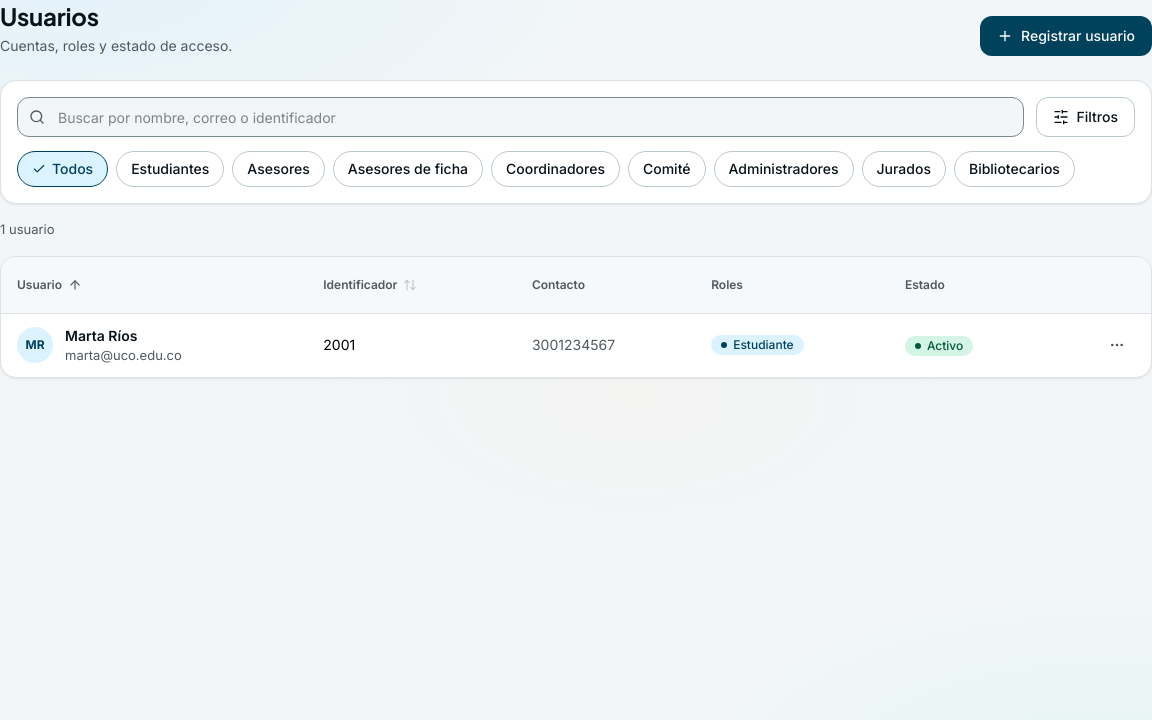
AdministradorView › "Editar" abre el panel de edición en Datos y "Cambiar roles" lo abre en Roles
Expected: the table named "Usuarios" is shown, [1, 257, 1151, 377]
Click the button named "Acciones de Marta Ríos" at (1117, 345), box [1099, 327, 1135, 363]
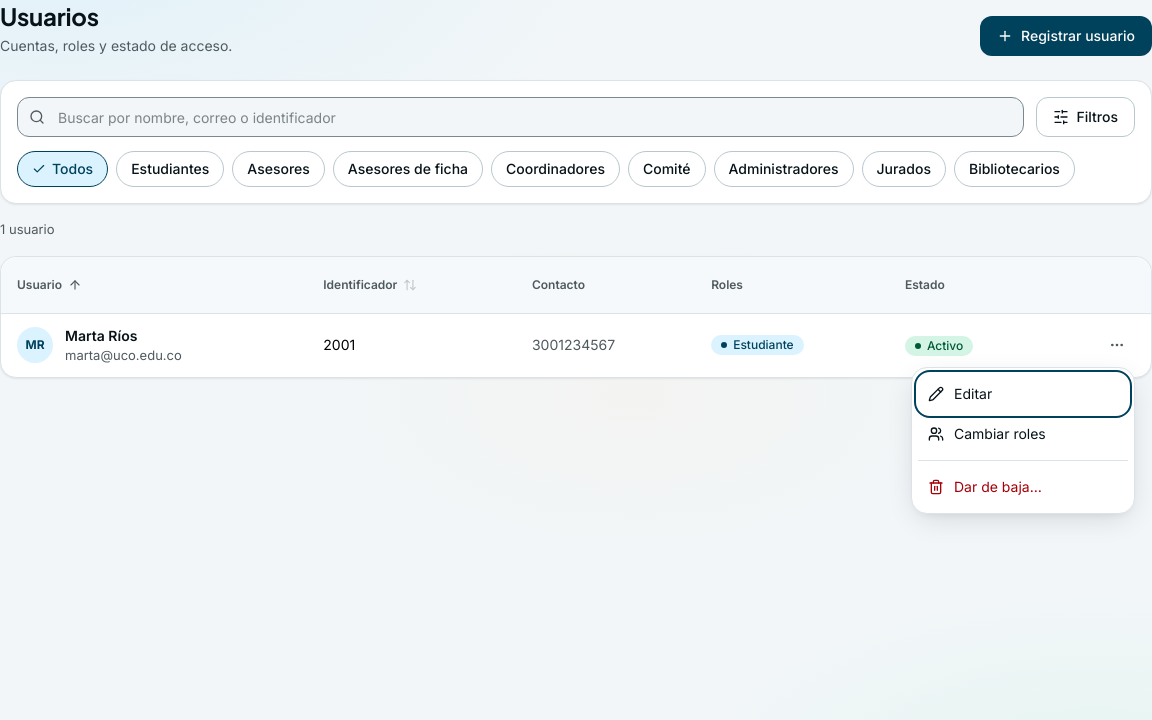
Click the menu item "Editar" at (1023, 394), box [918, 374, 1128, 414]
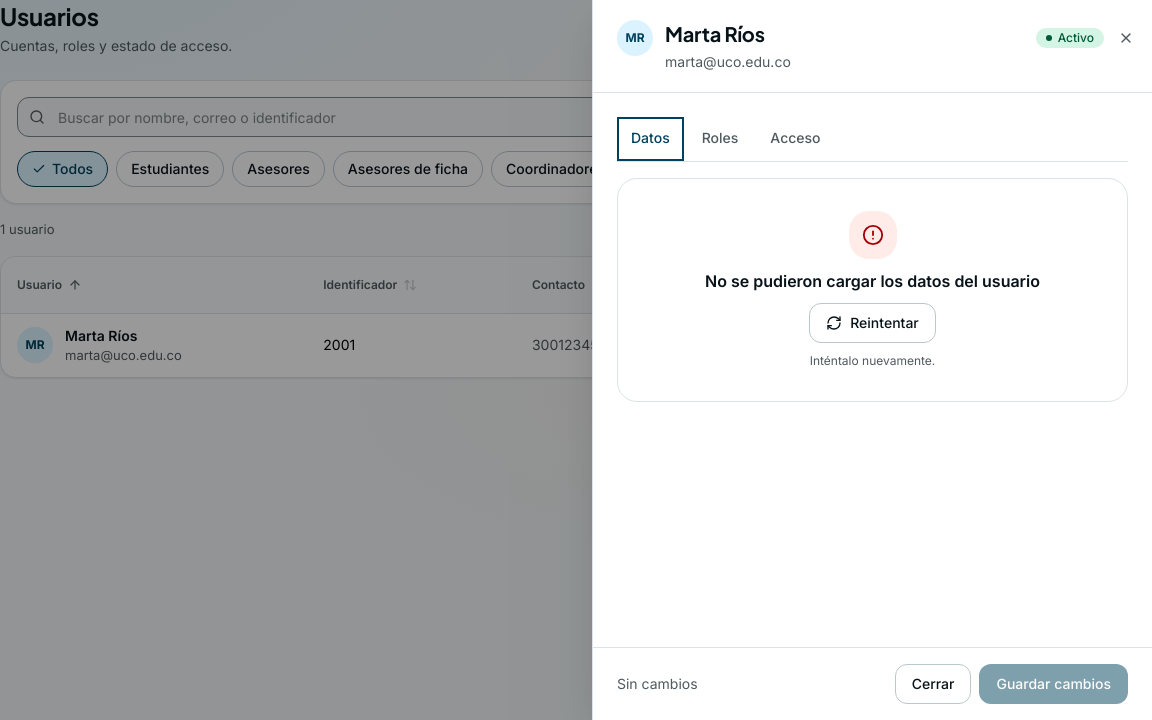
Result: the dialog "Marta Ríos" is shown at [592, 0, 1151, 719]
Click the button named "Cerrar panel" at (1126, 38), box [1108, 20, 1144, 56]
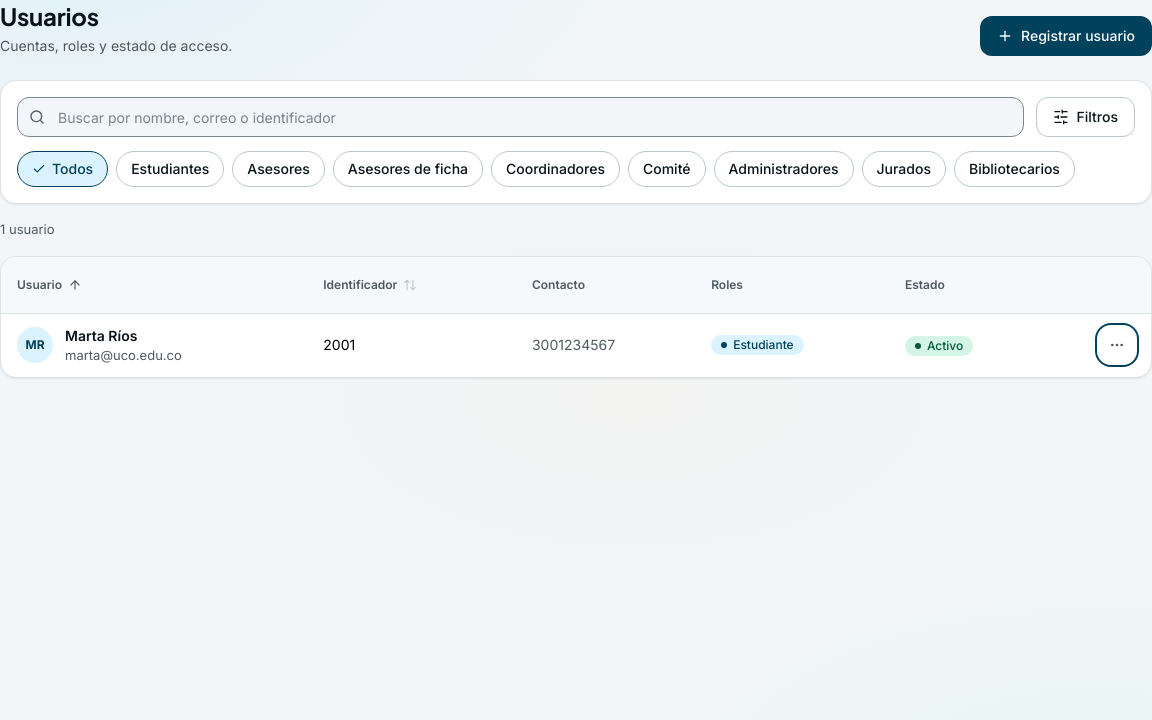
Click the button named "Acciones de Marta Ríos" at (1117, 345), box [1099, 327, 1135, 363]
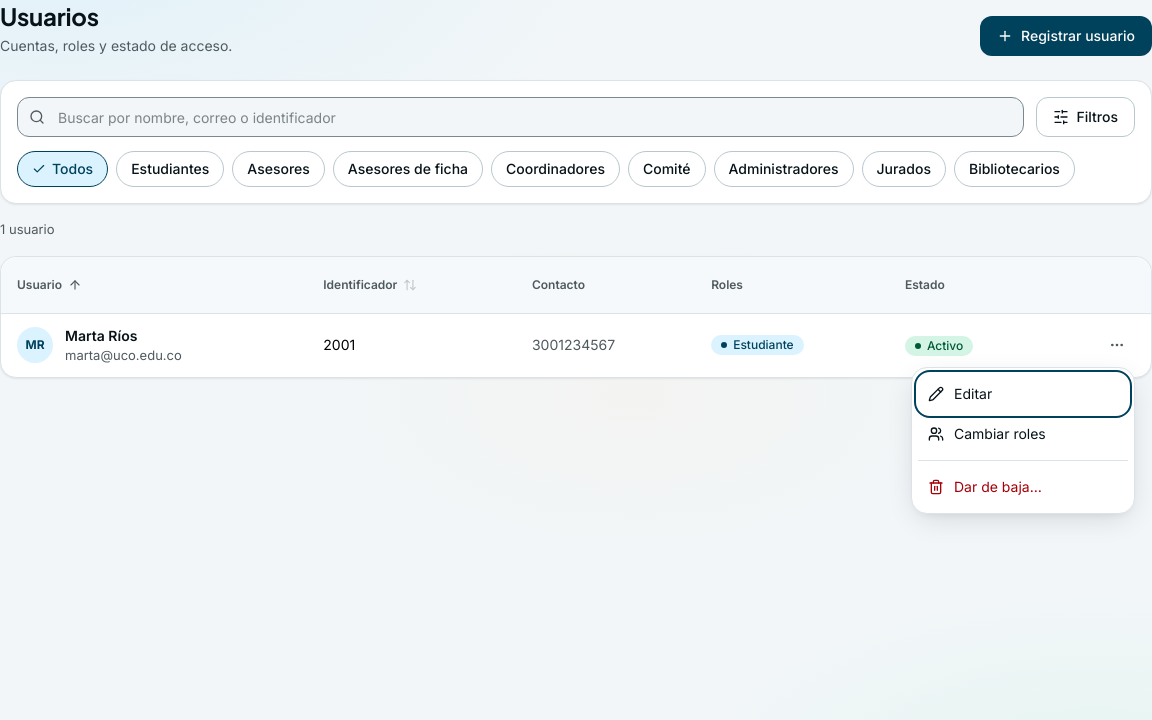
Click the menu item "Cambiar roles" at (1023, 434), box [918, 414, 1128, 454]
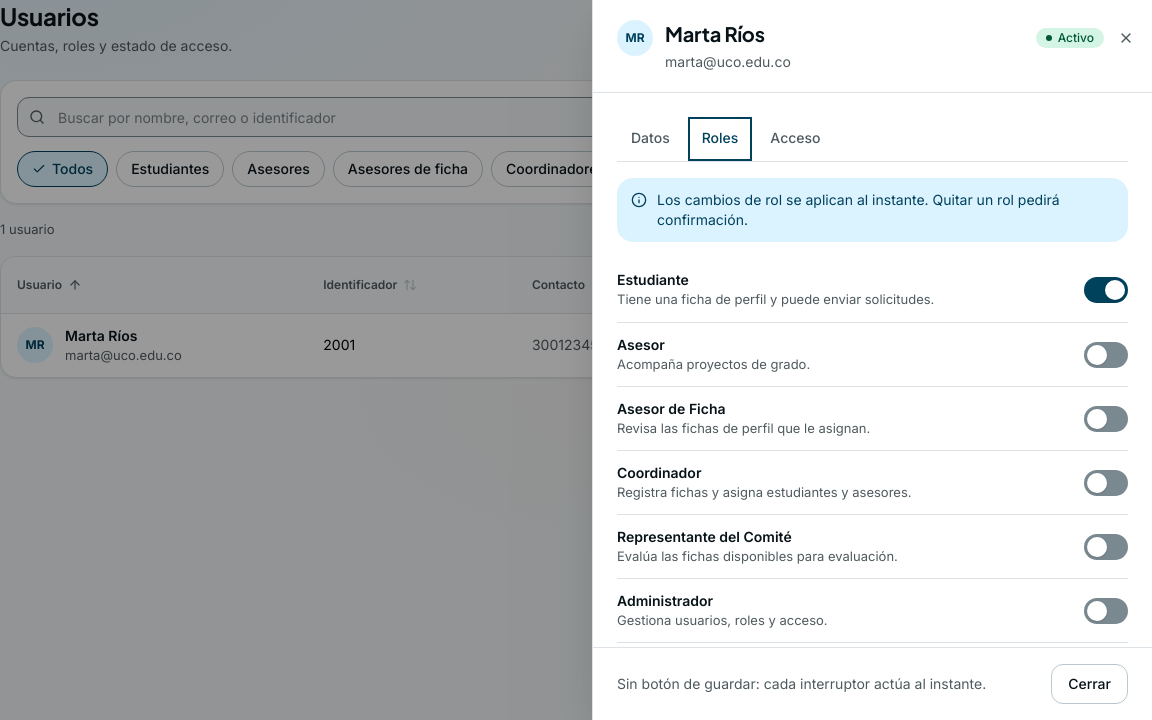
Result: the dialog "Marta Ríos" is shown at [592, 0, 1151, 719]
